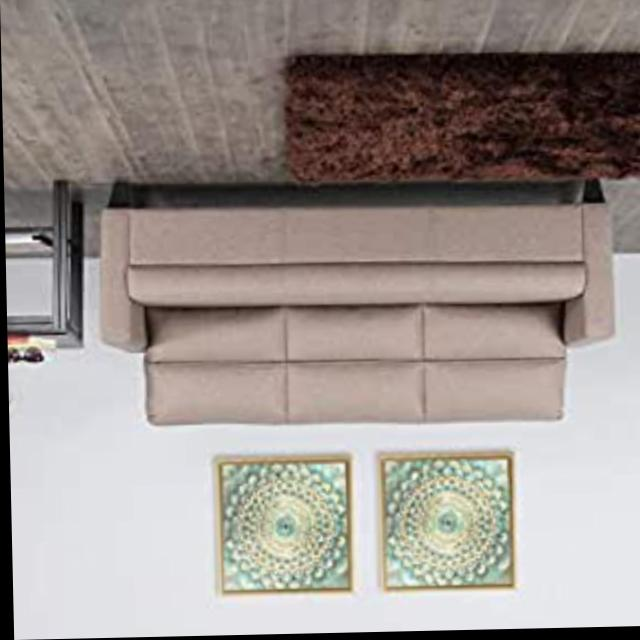Sofa: (91, 182, 618, 432)
